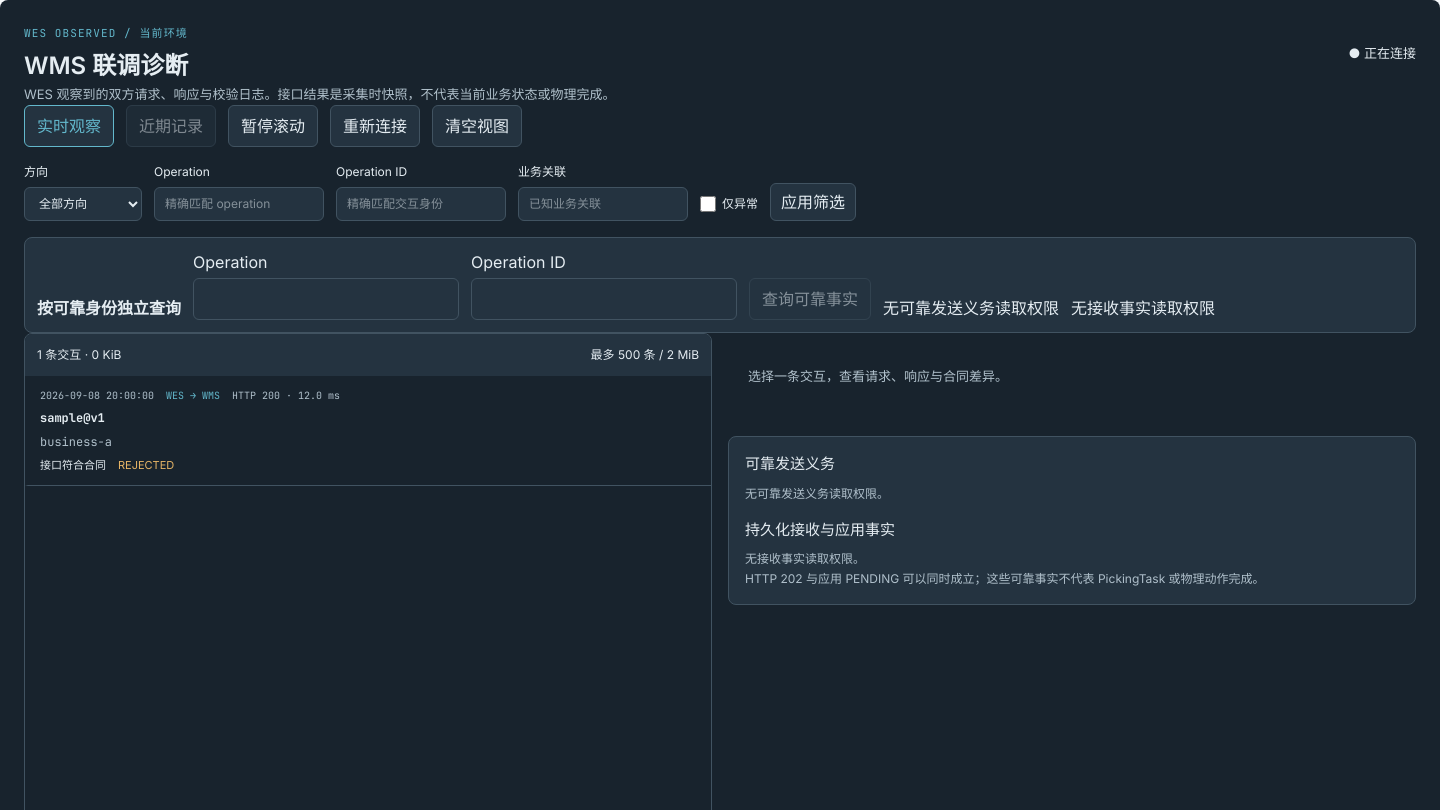
Test case: WMS 联调页面权限与现场含义 › 合法业务拒绝与合同判定分开展示；暂停、清空不会触发历史查询
This screenshot has width=1440, height=810.
Click the button "暂停滚动".
click(273, 126)  # box x1=228 y1=105 x2=318 y2=147
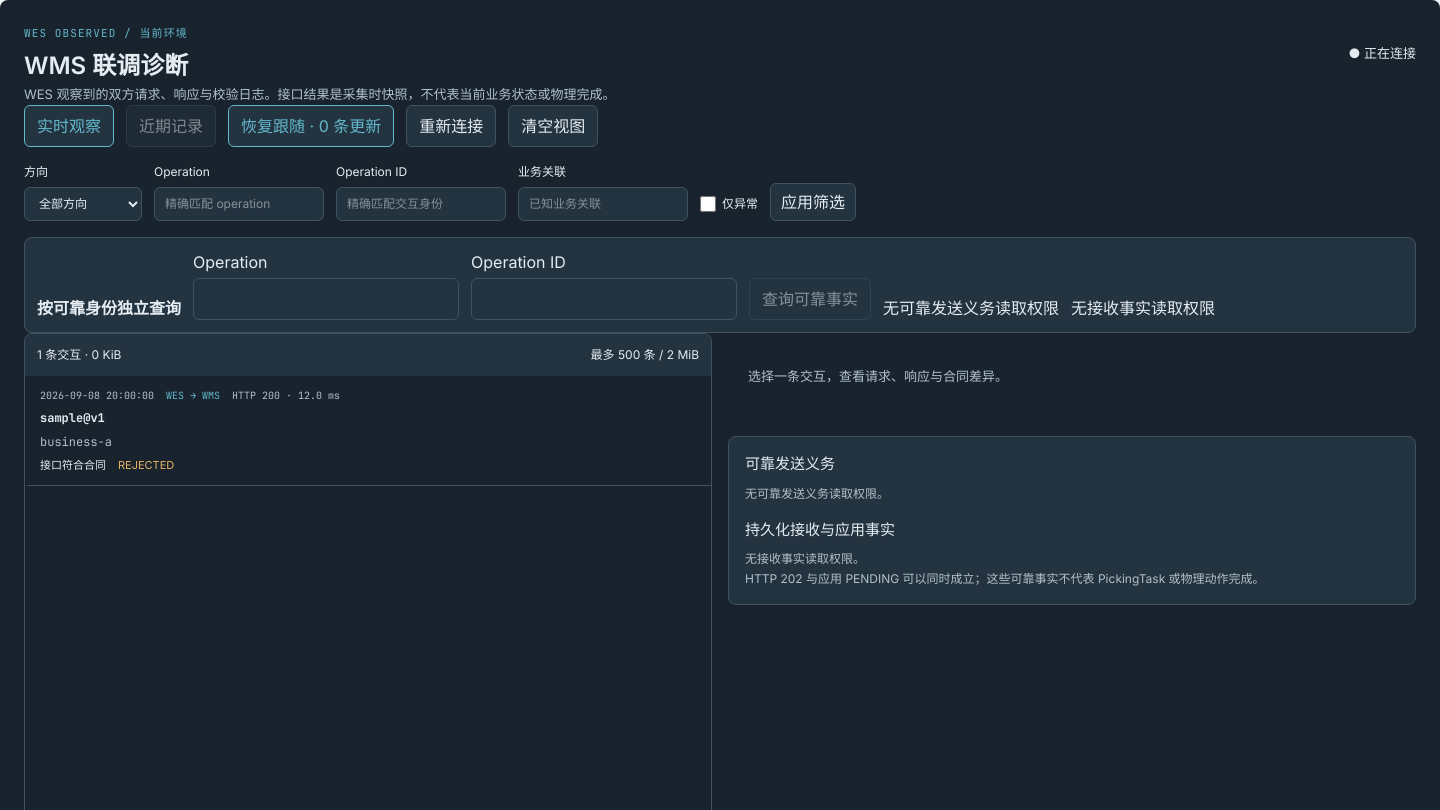
Click the button "清空视图".
click(553, 126)  # box x1=508 y1=105 x2=598 y2=147
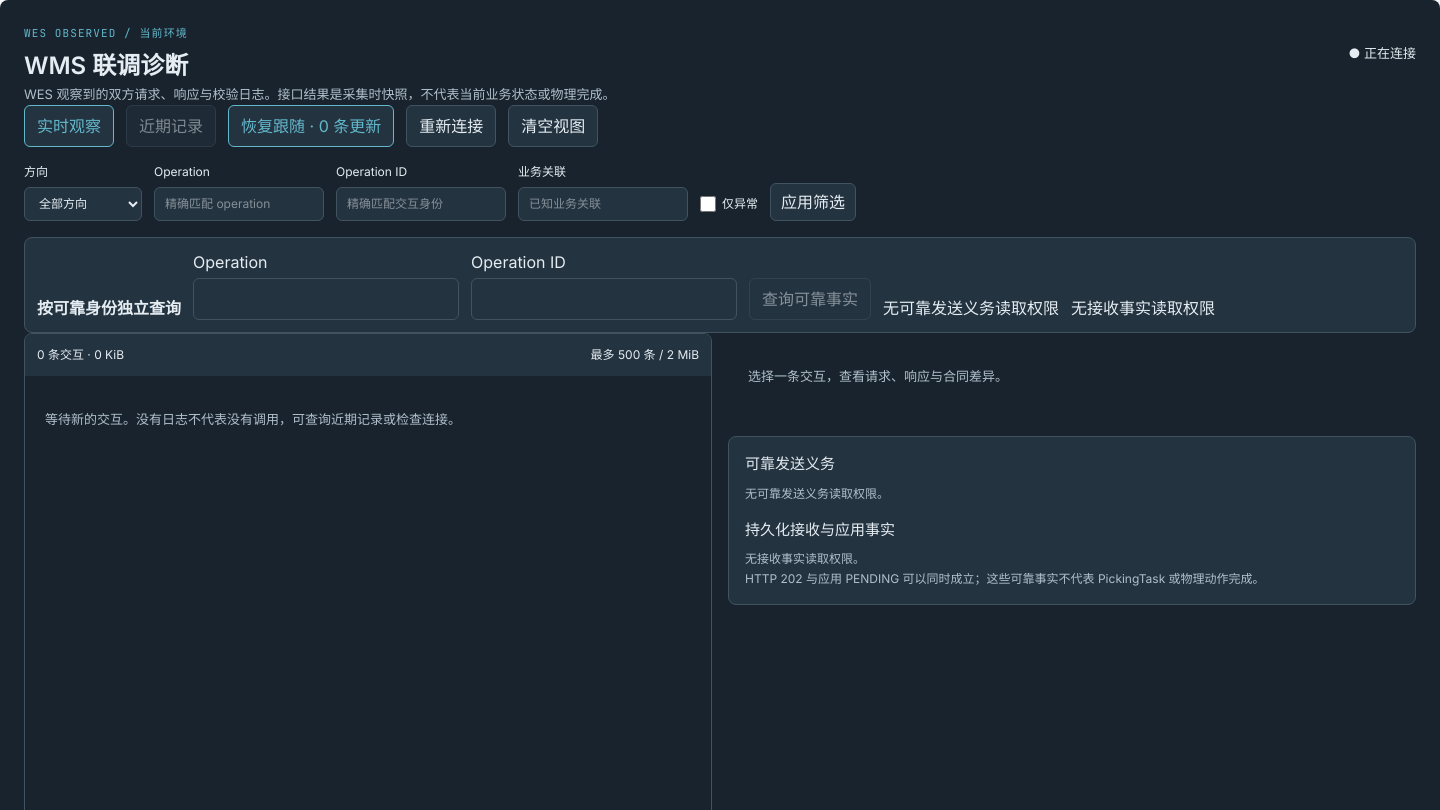
Expected: no buttons with class "console-row" are shown
